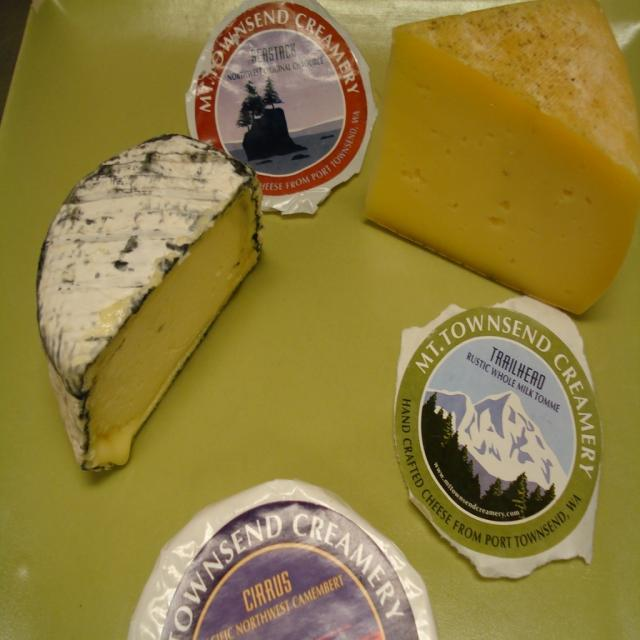Cheese: (360, 0, 640, 319), (37, 131, 267, 467)
